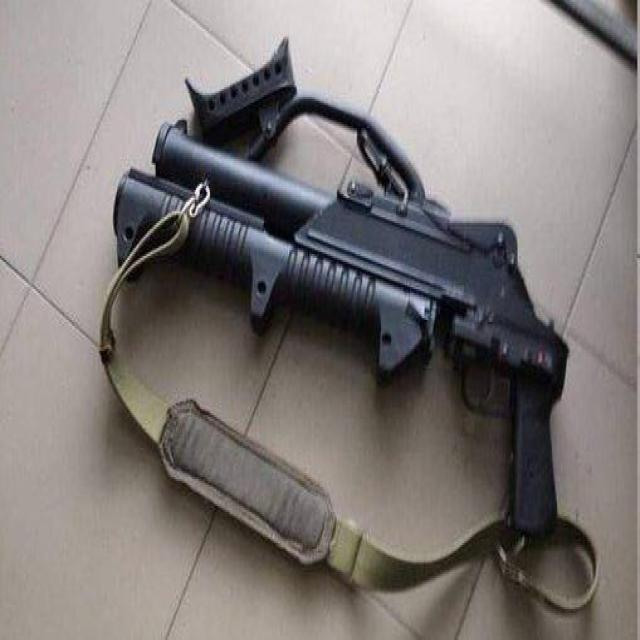weapon: (115, 51, 570, 536)
